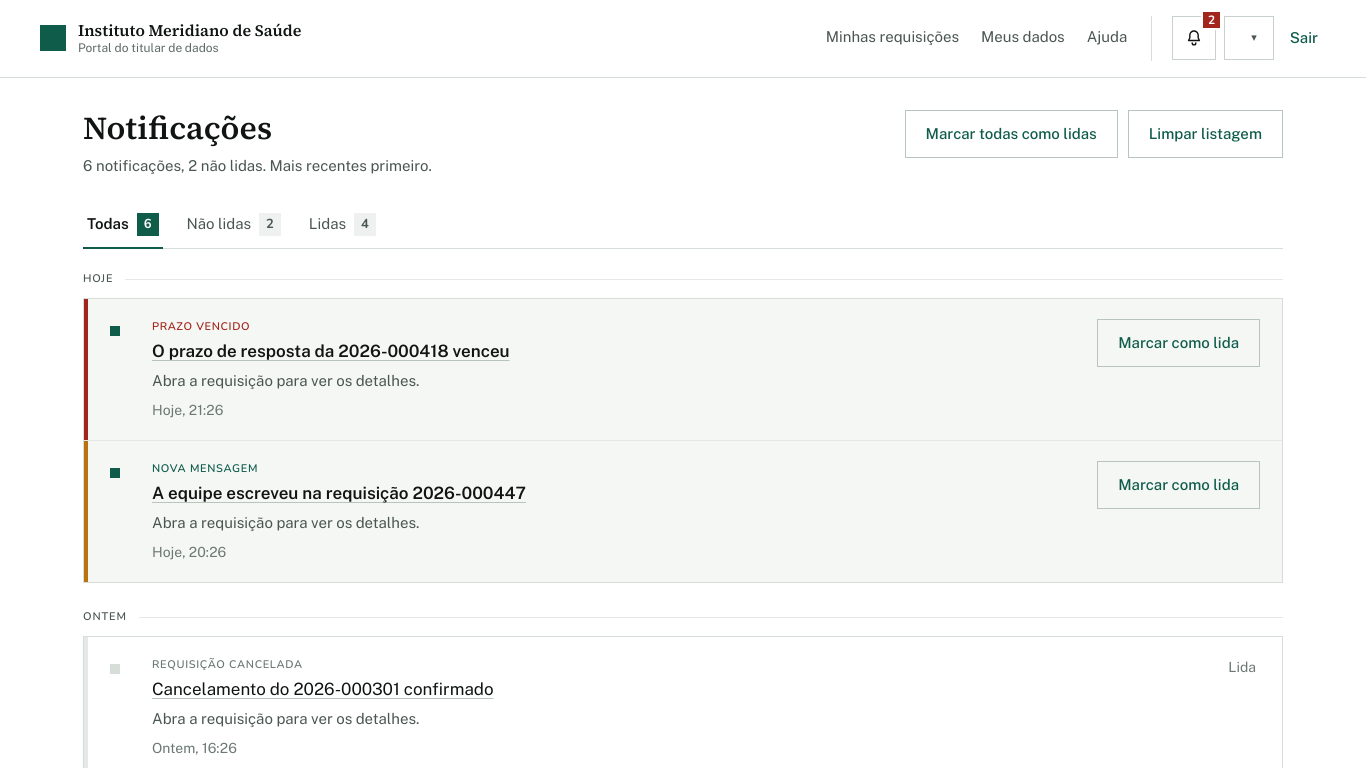
Test: NotificationsView › explica o recurso indisponível no próprio aviso, sem navegar
What coordinates should you click on to do the following:
click the button "Cancelamento do 2026-000301 confirmado"
I would click on:
 (323, 689)
Its box is [152,678,1208,702].
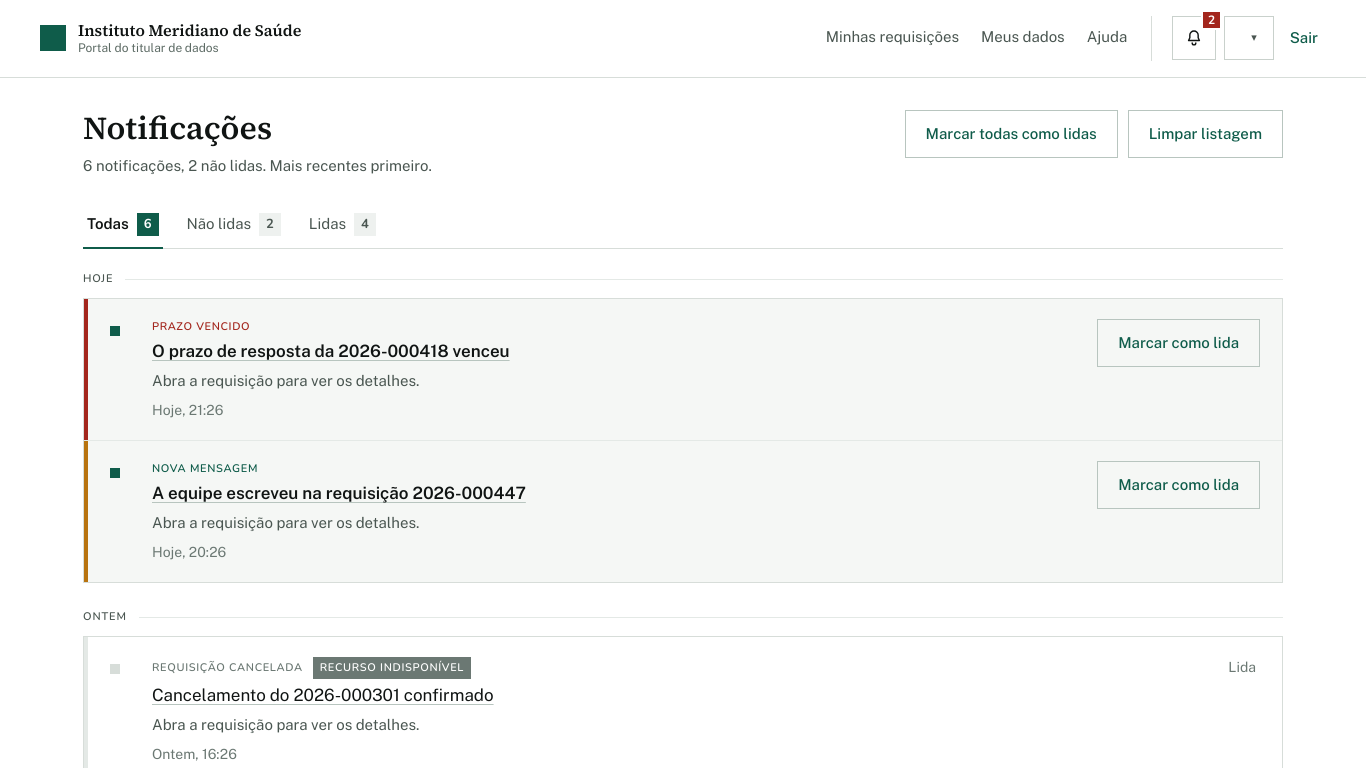
Expected: the text "Recurso indisponível" is shown, [313,657,471,679]
